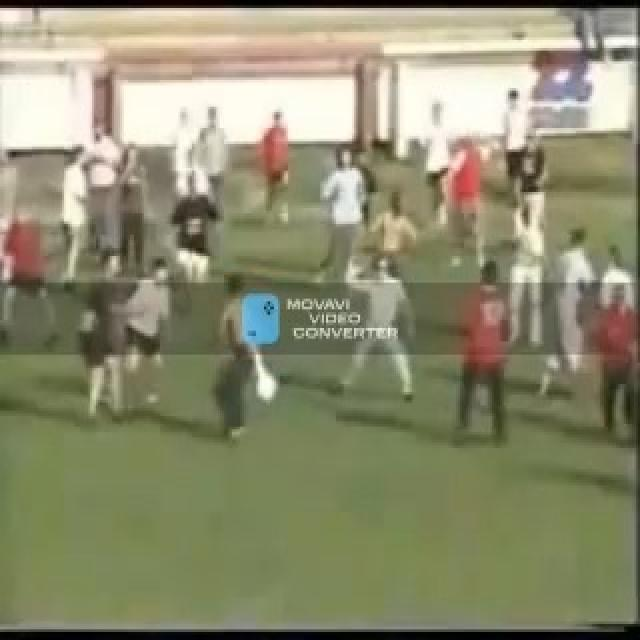non-voilence: (0, 61, 638, 451), (452, 258, 514, 442), (258, 106, 288, 210)
